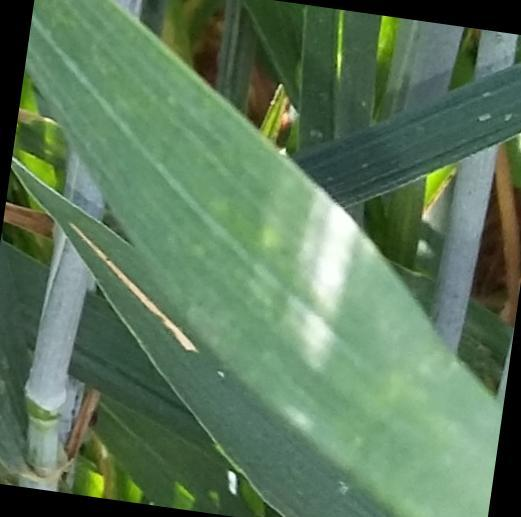Wheat: (300, 389, 486, 517), (209, 247, 378, 384), (107, 122, 258, 240), (331, 57, 465, 162), (41, 45, 166, 107)
